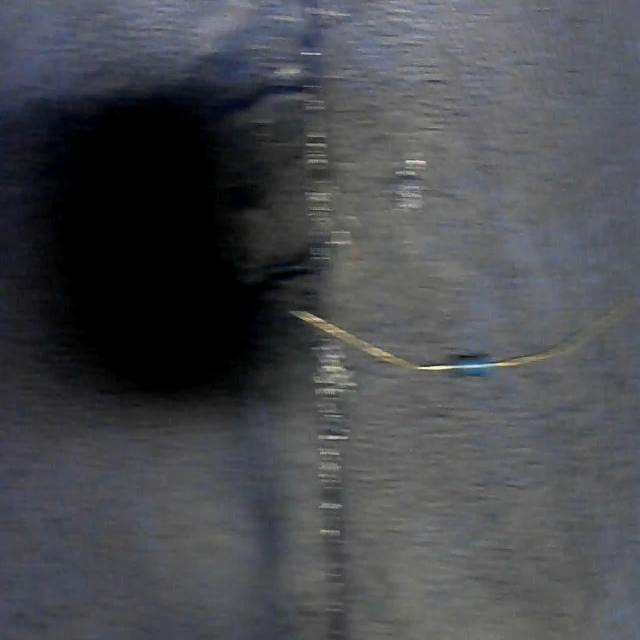resistor: (328, 322, 580, 388)
